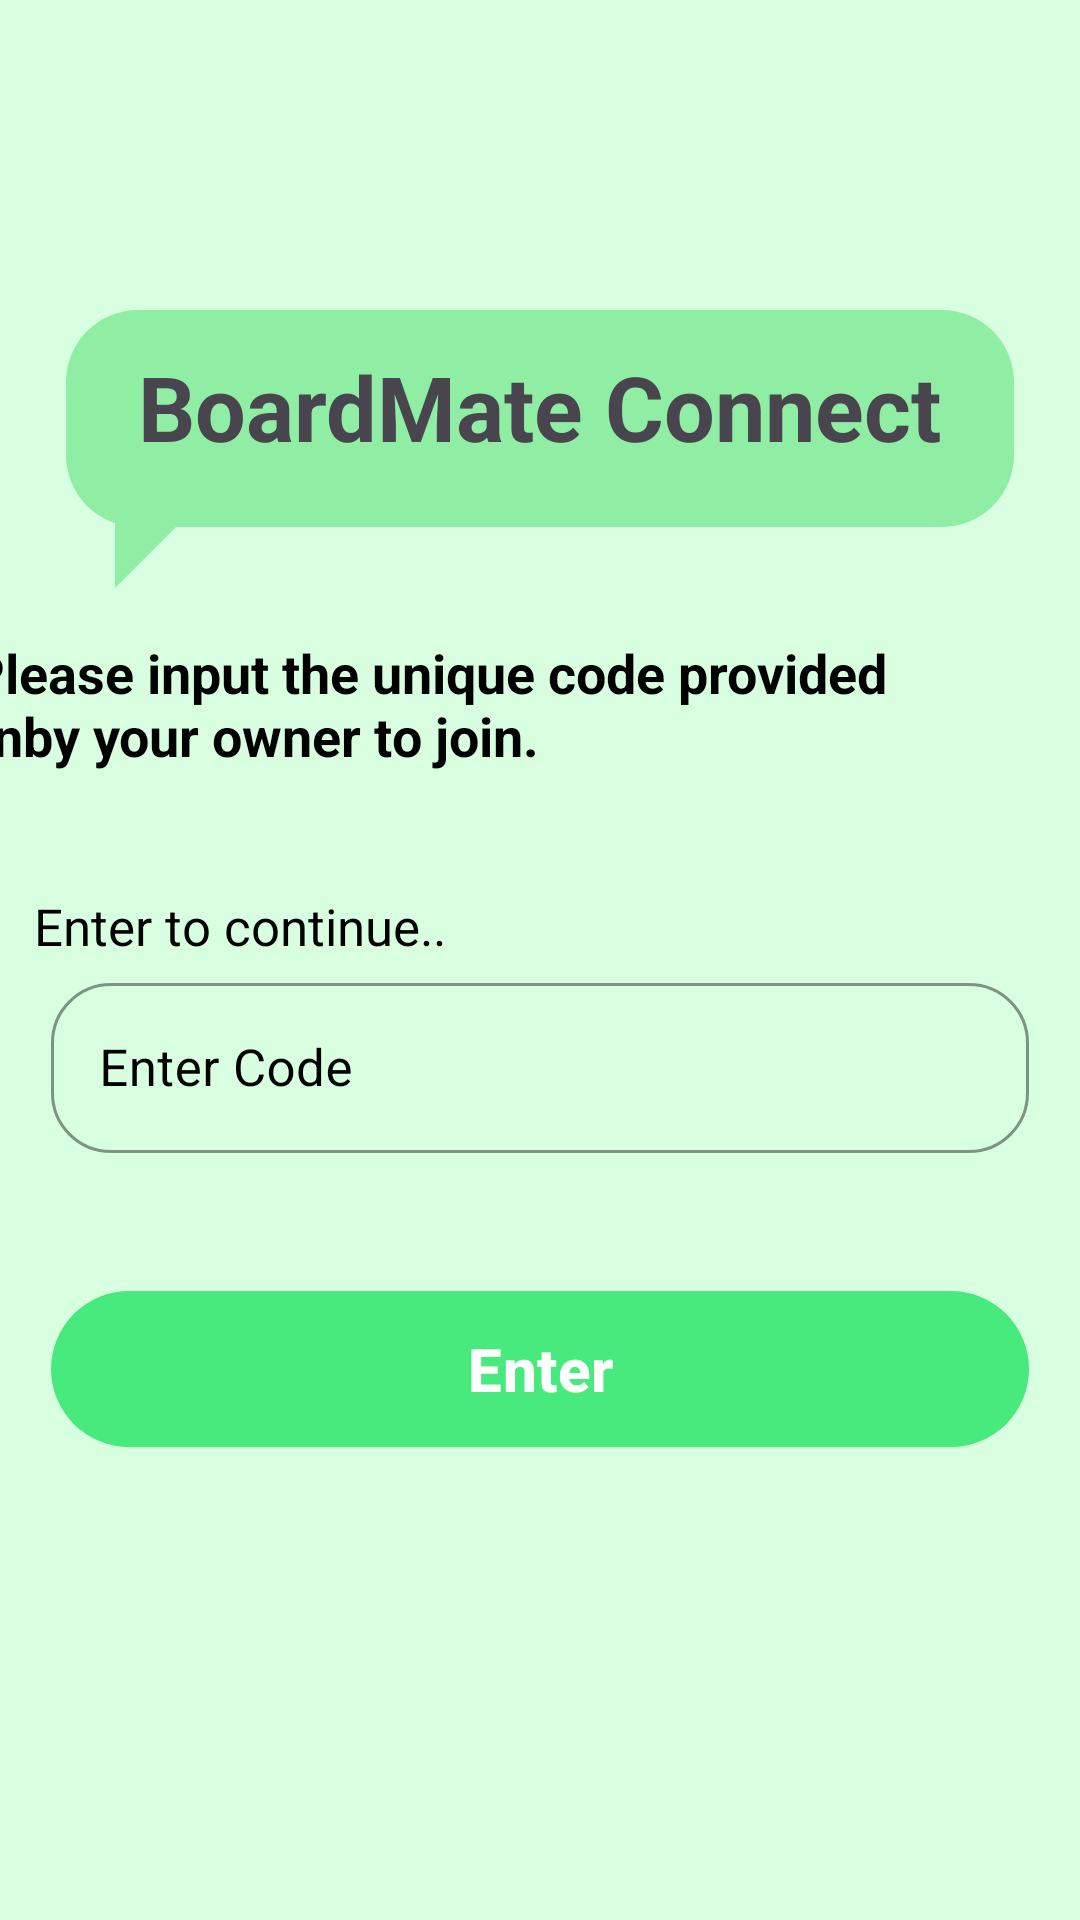

Named icons in this screenshot (1080×1920) and their centers, point (x, y):
bubble tail: point (151, 552)
